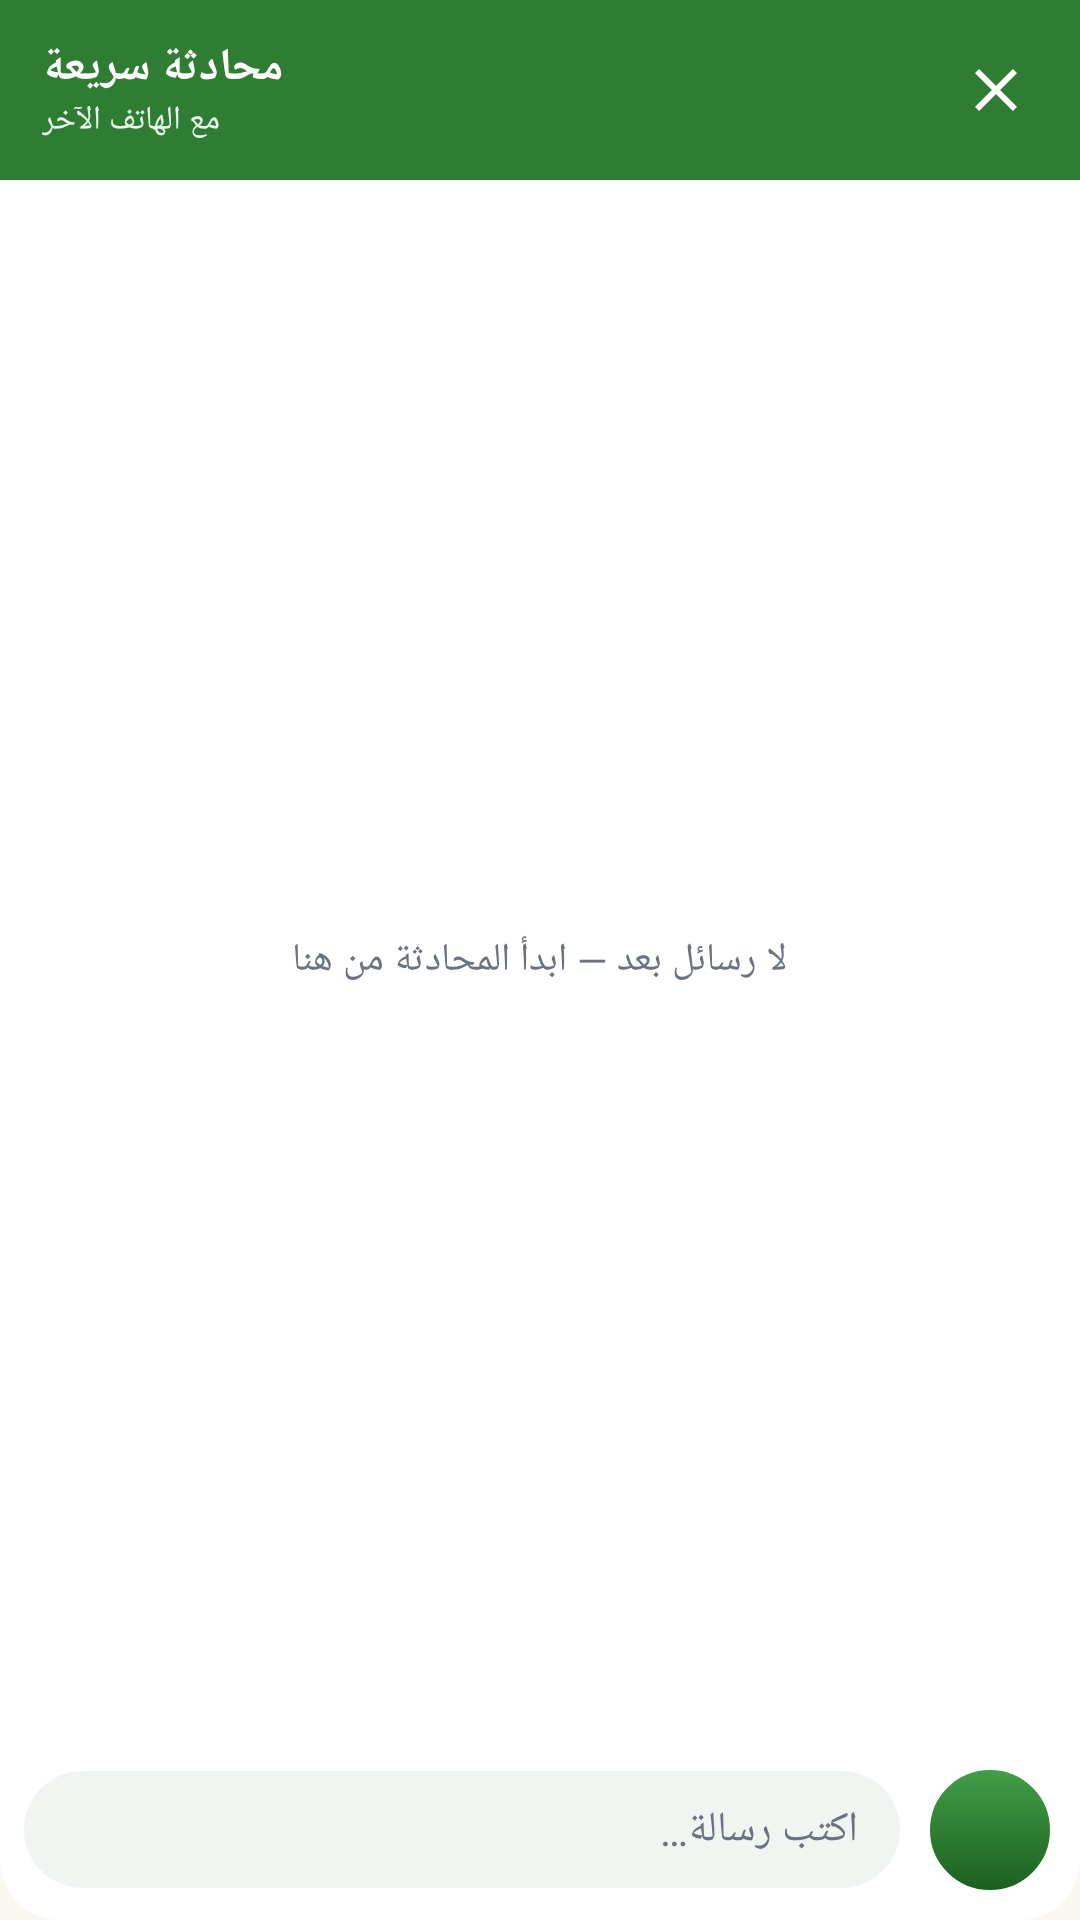

Icon bounding boxes for this 1080 × 1920 phone screenshot, format (x1,y1,x2,y2):
إلغاء: (975,69,1017,111)
